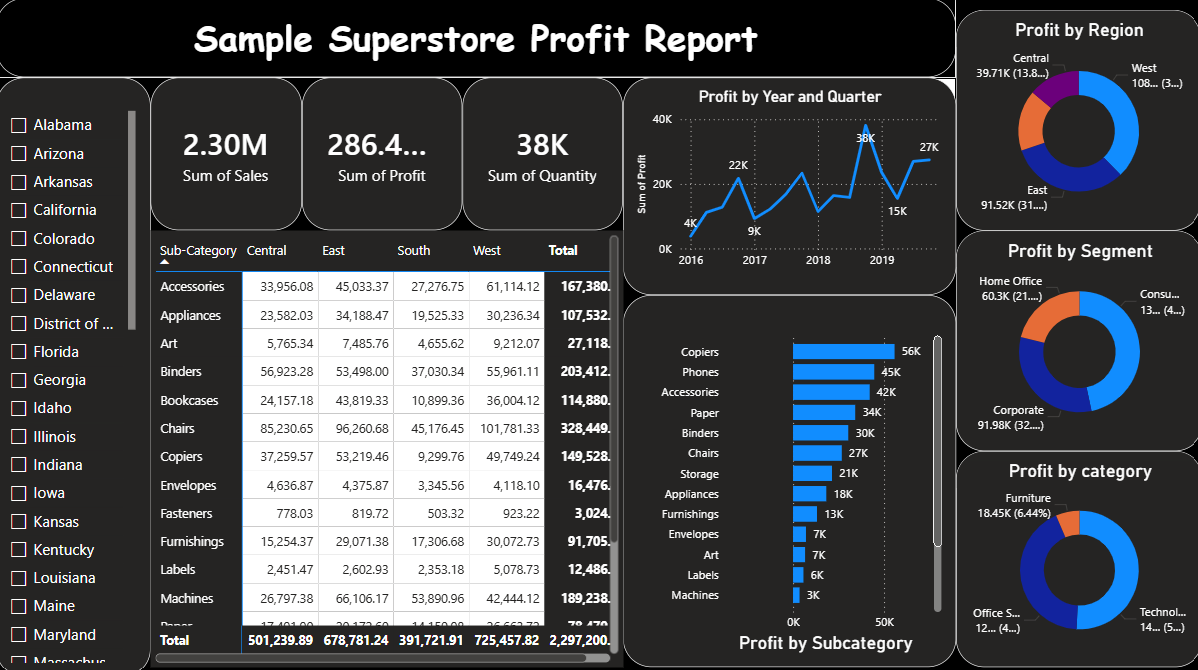

This screenshot's page, from the dashboard's own definition file:
{"tool":"powerbi","page":{"name":"Page 1","canvas":[1280,720],"ordinal":0},"visuals":[{"type":"textbox","box":[0,0,1018,84.3],"z":0},{"type":"donutChart","title":"Profit by category","fields":{"Category":["Orders.Category"],"Y":["Sum(Orders.Profit)"]},"box":[1018,480.4,262.5,229],"z":1000},{"type":"donutChart","title":"Profit by Segment","fields":{"Y":["Sum(Orders.Profit)"],"Category":["Orders.Segment"]},"box":[1018,246.5,262.5,233.8],"z":2000},{"type":"donutChart","title":"Profit by Region","fields":{"Y":["Sum(Orders.Profit)"],"Category":["Orders.Region"]},"box":[1018,12.7,260.9,233.8],"z":3000},{"type":"barChart","fields":{"Category":["Orders.Sub-Category"],"Y":["Sum(Orders.Profit)"]},"box":[664.9,314.9,353.1,394.5],"z":4000},{"type":"lineChart","title":"Profit by Year and Quarter","fields":{"Category":["Orders.Order Date.Variation.Date Hierarchy.Year","Orders.Order Date.Variation.Date Hierarchy.Quarter","Orders.Order Date.Variation.Date Hierarchy.Month","Orders.Order Date.Variation.Date Hierarchy.Day"],"Y":["Sum(Orders.Profit)"]},"box":[664.9,84.3,353.1,230.6],"z":5000},{"type":"listSlicer","fields":{"Values":["Orders.State"]},"box":[0,84.3,163.8,636.2],"z":6000},{"type":"pivotTable","fields":{"Rows":["Orders.Sub-Category"],"Columns":["Orders.Region"],"Values":["Sum(Orders.Sales)"]},"box":[163.8,246.5,501,462.9],"z":7000},{"type":"cardVisual","fields":{"Data":["Sum(Orders.Sales)"]},"box":[163.8,84.3,160.7,162.2],"z":8000},{"type":"cardVisual","fields":{"Data":["Sum(Orders.Profit)"]},"box":[324.5,84.3,170.2,162.2],"z":9000},{"type":"cardVisual","fields":{"Data":["Sum(Orders.Quantity)"]},"box":[494.7,84.3,170.2,162.2],"z":10000}]}

Visuals, with their boxes in screenshot pixels (x1, y1, x2, y2), scaled from the page's 1280x720 canvas onto the 1198x670 screenshot:
textbox: [0, 0, 953, 78]
"Profit by category" donutChart: [953, 447, 1197, 660]
"Profit by Segment" donutChart: [953, 229, 1197, 447]
"Profit by Region" donutChart: [953, 12, 1197, 229]
barChart - Orders.Sub-Category x Sum(Orders.Profit): [622, 293, 953, 660]
"Profit by Year and Quarter" lineChart: [622, 78, 953, 293]
listSlicer - Orders.State: [0, 78, 153, 669]
pivotTable - Orders.Sub-Category x Orders.Region: [153, 229, 622, 660]
cardVisual - Sum(Orders.Sales): [153, 78, 304, 229]
cardVisual - Sum(Orders.Profit): [304, 78, 463, 229]
cardVisual - Sum(Orders.Quantity): [463, 78, 622, 229]
